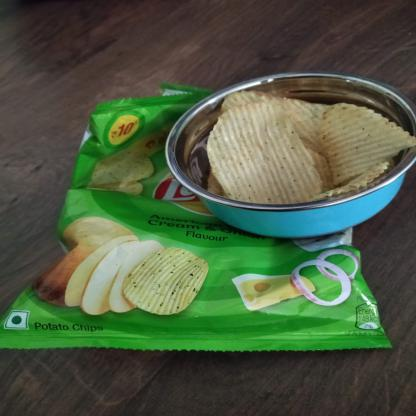cream_and_onion: (2, 102, 393, 348)
